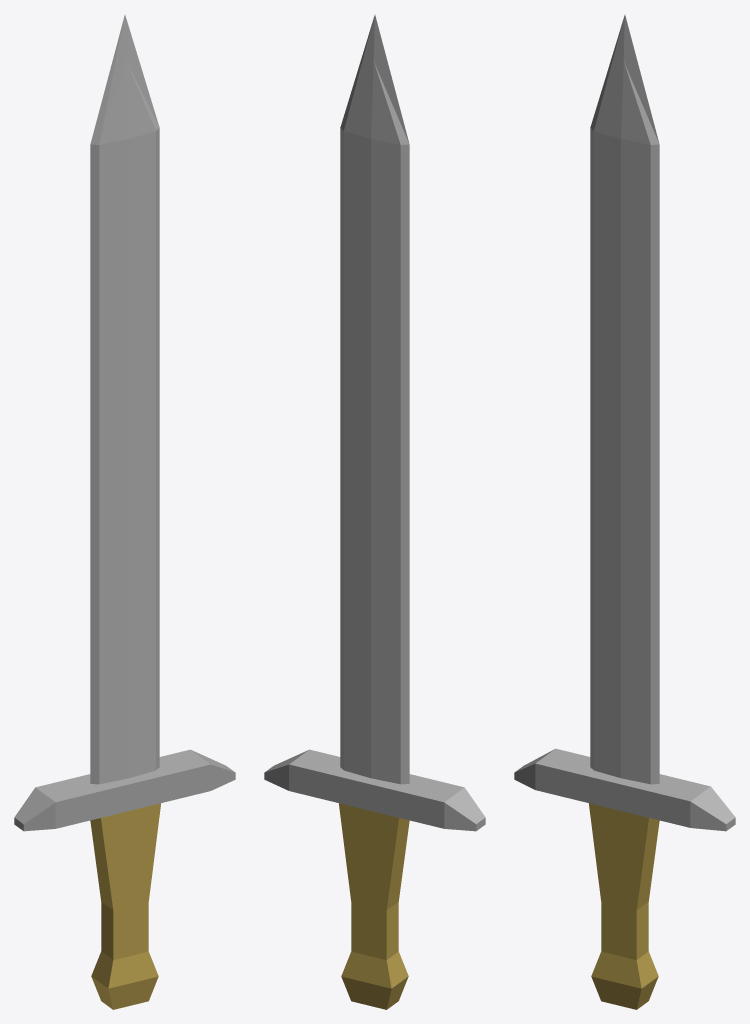
Rendered from default_sword.fbx.
3 renders of one model, left to right at view 1: azimuth 30°, elevation 25°; view 2: azimuth 150°, elevation 25°; view 3: azimuth 330°, elevation 25°, orthographic.
Visible parts, largest first — view 1: клинок, рукоять, гарда; view 2: клинок, рукоять, гарда; view 3: клинок, рукоять, гарда.
Boxes of the visible parts, box(x1,y1,x2,y2) form: клинок: box(90, 15, 159, 784); рукоять: box(90, 803, 160, 1009); гарда: box(14, 749, 235, 831); клинок: box(340, 15, 409, 784); рукоять: box(339, 803, 409, 1009); гарда: box(264, 749, 485, 831); клинок: box(590, 15, 659, 784); рукоять: box(589, 803, 659, 1009); гарда: box(514, 748, 735, 831).
Size of the model in its own units: 52.74 by 235 by 8.8.
